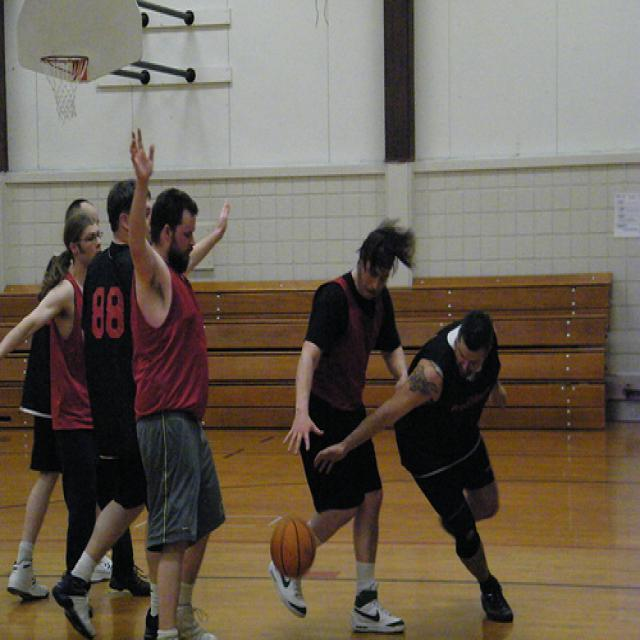basketball: (268, 514, 316, 577)
rim: (41, 51, 88, 68)
